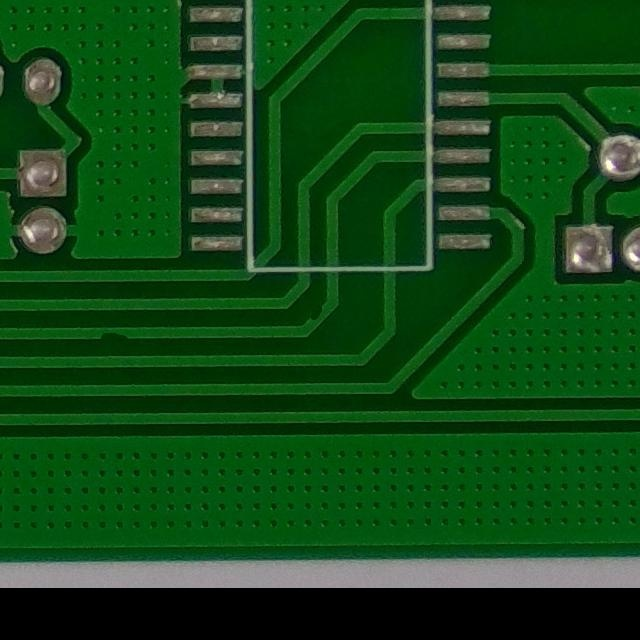mouse_bite: (299, 298, 341, 342)
